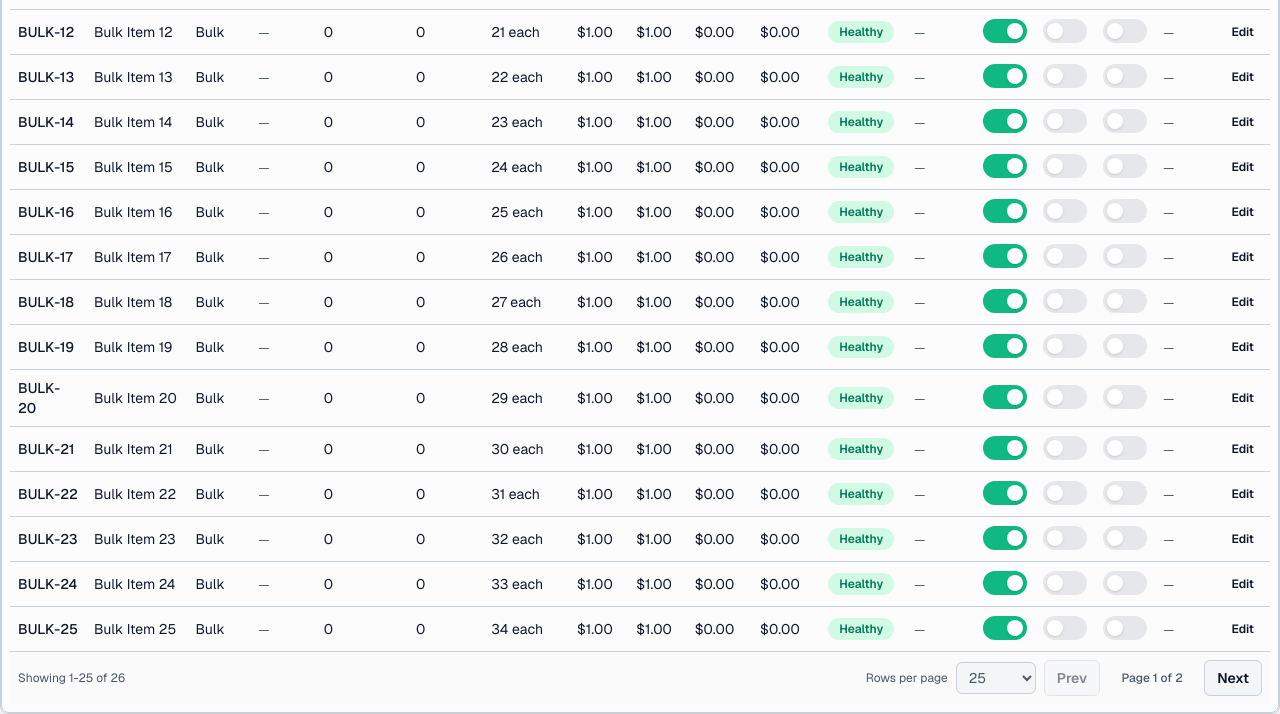
Test: InventoryPage › paginates the inventory overview after filtering
(page scrolled)
Expected: the text "Bulk Item 26" is not shown
Expected: the text "Page 1 of 2" is shown, [1122, 670, 1183, 686]
Click the button with aria-label "Next page".
click(1233, 678)  # box [1204, 660, 1262, 696]
(page scrolled)
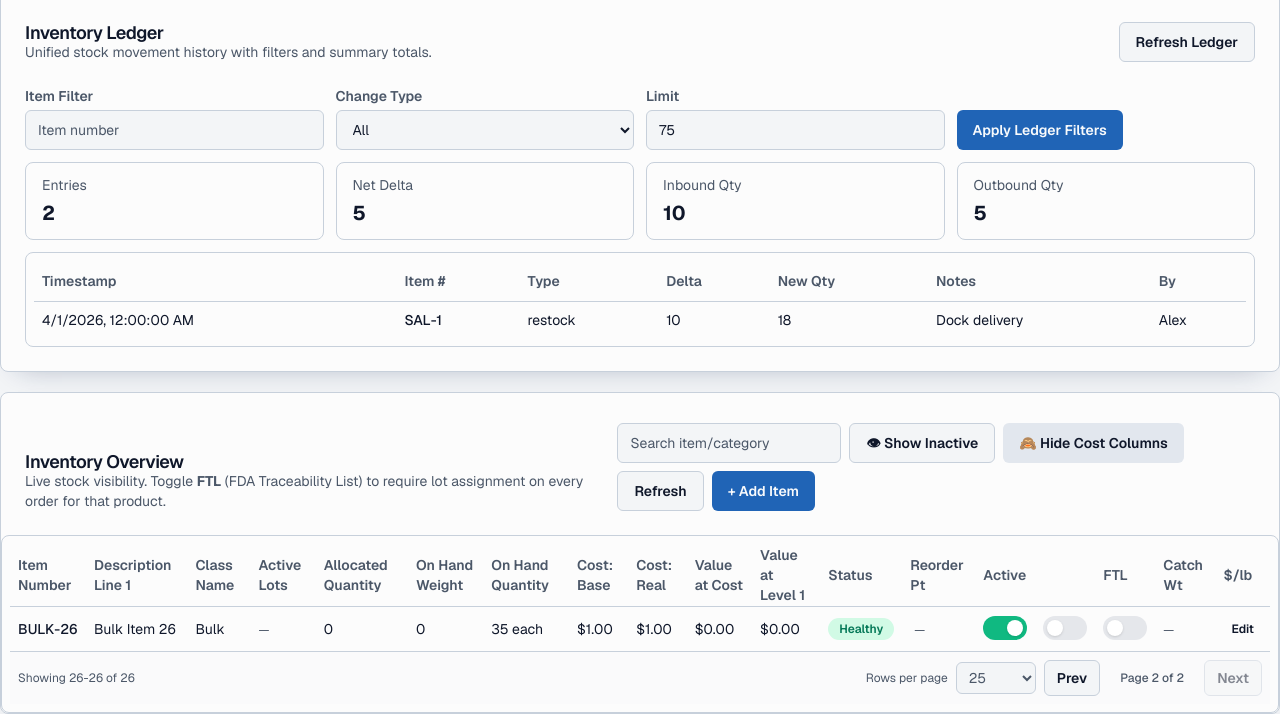
Result: the text "Bulk Item 26" is shown at [86, 606, 187, 650]
Type "Bulk Item 26" into the field with placeholder "Search item/category".
click(729, 442); type("Bulk Item 26")  # box [617, 422, 841, 462]
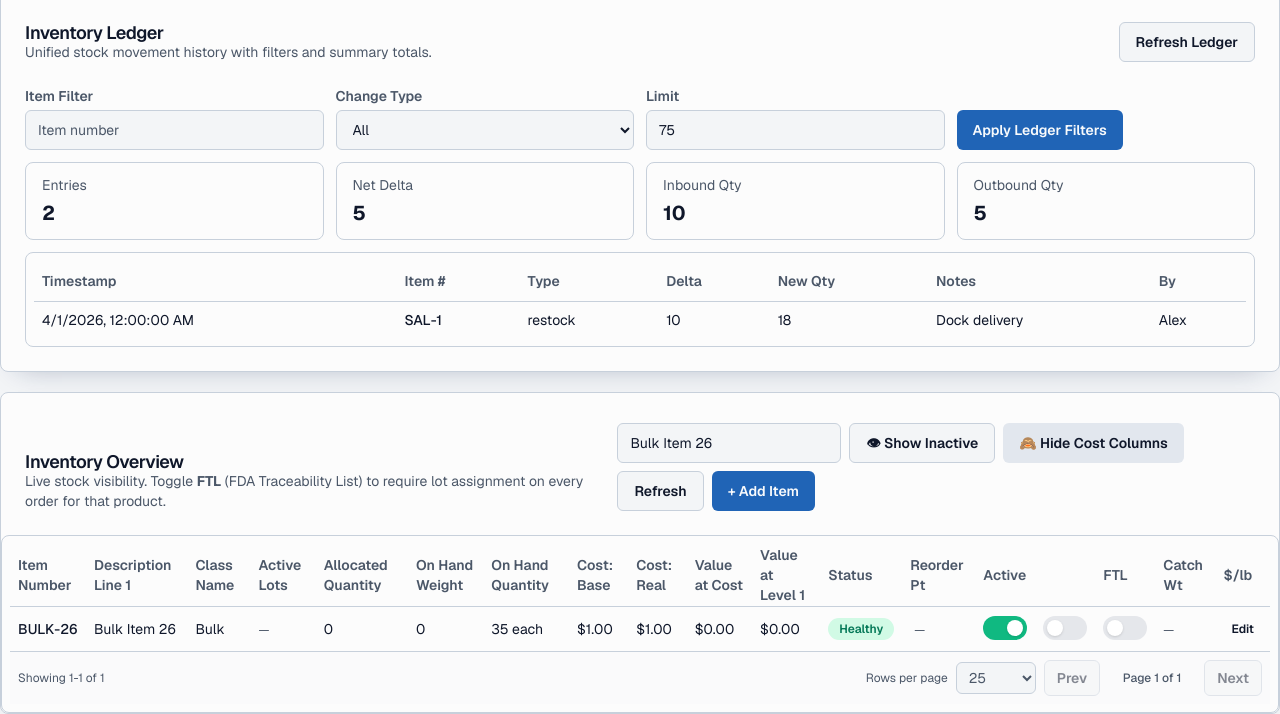
Result: the text "Bulk Item 26" is shown at [86, 606, 187, 650]
Result: the text "Page 1 of 1" is shown at [1123, 670, 1181, 686]
